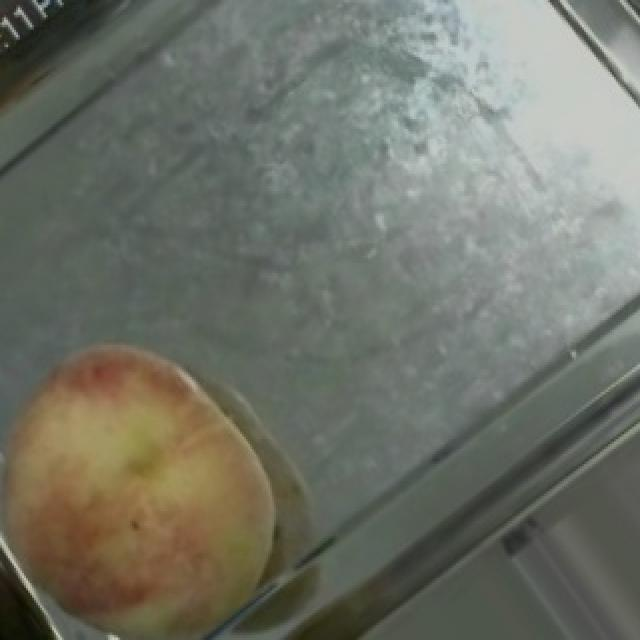Fruit: (0, 302, 306, 640)
